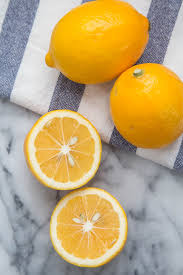Lemon: (46, 3, 152, 86), (110, 64, 183, 140)
